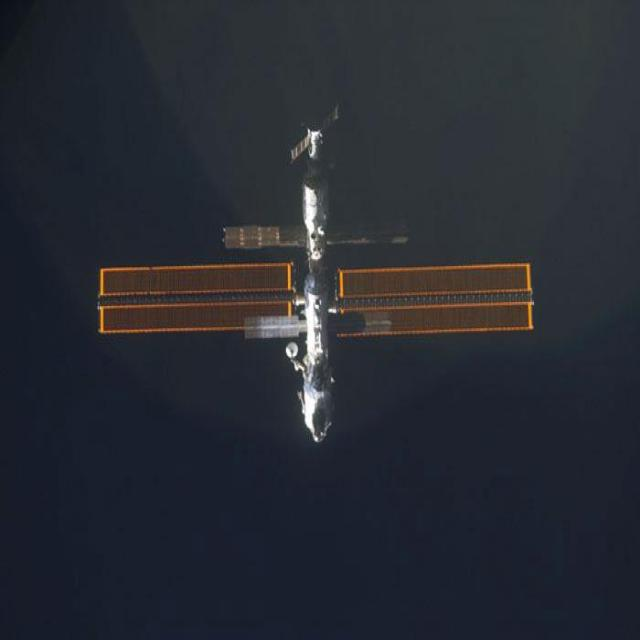medium_debris: (100, 108, 531, 440), (330, 229, 408, 244)
